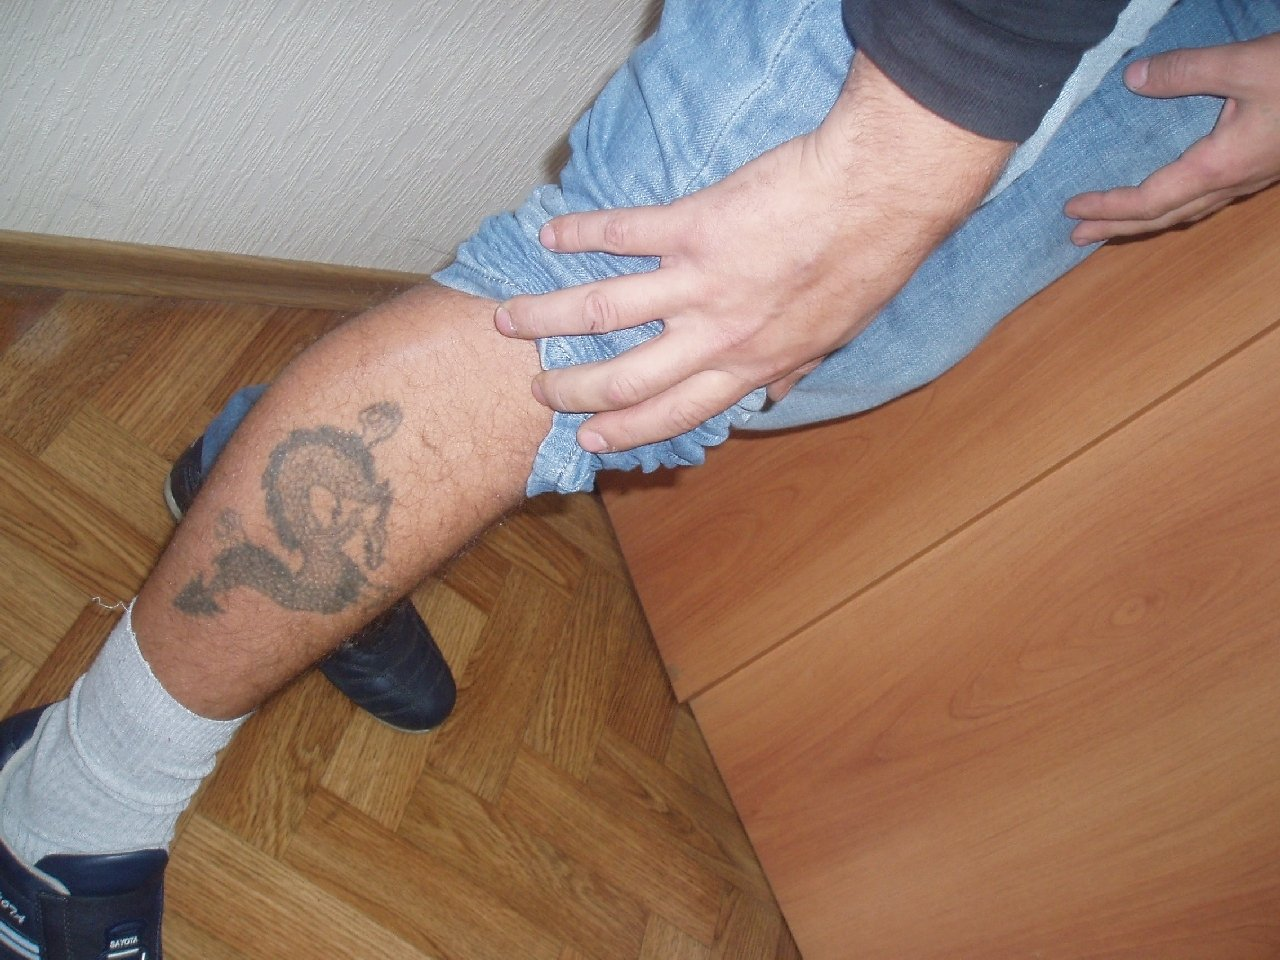tatu7_zmeya: (167, 446, 443, 643)
